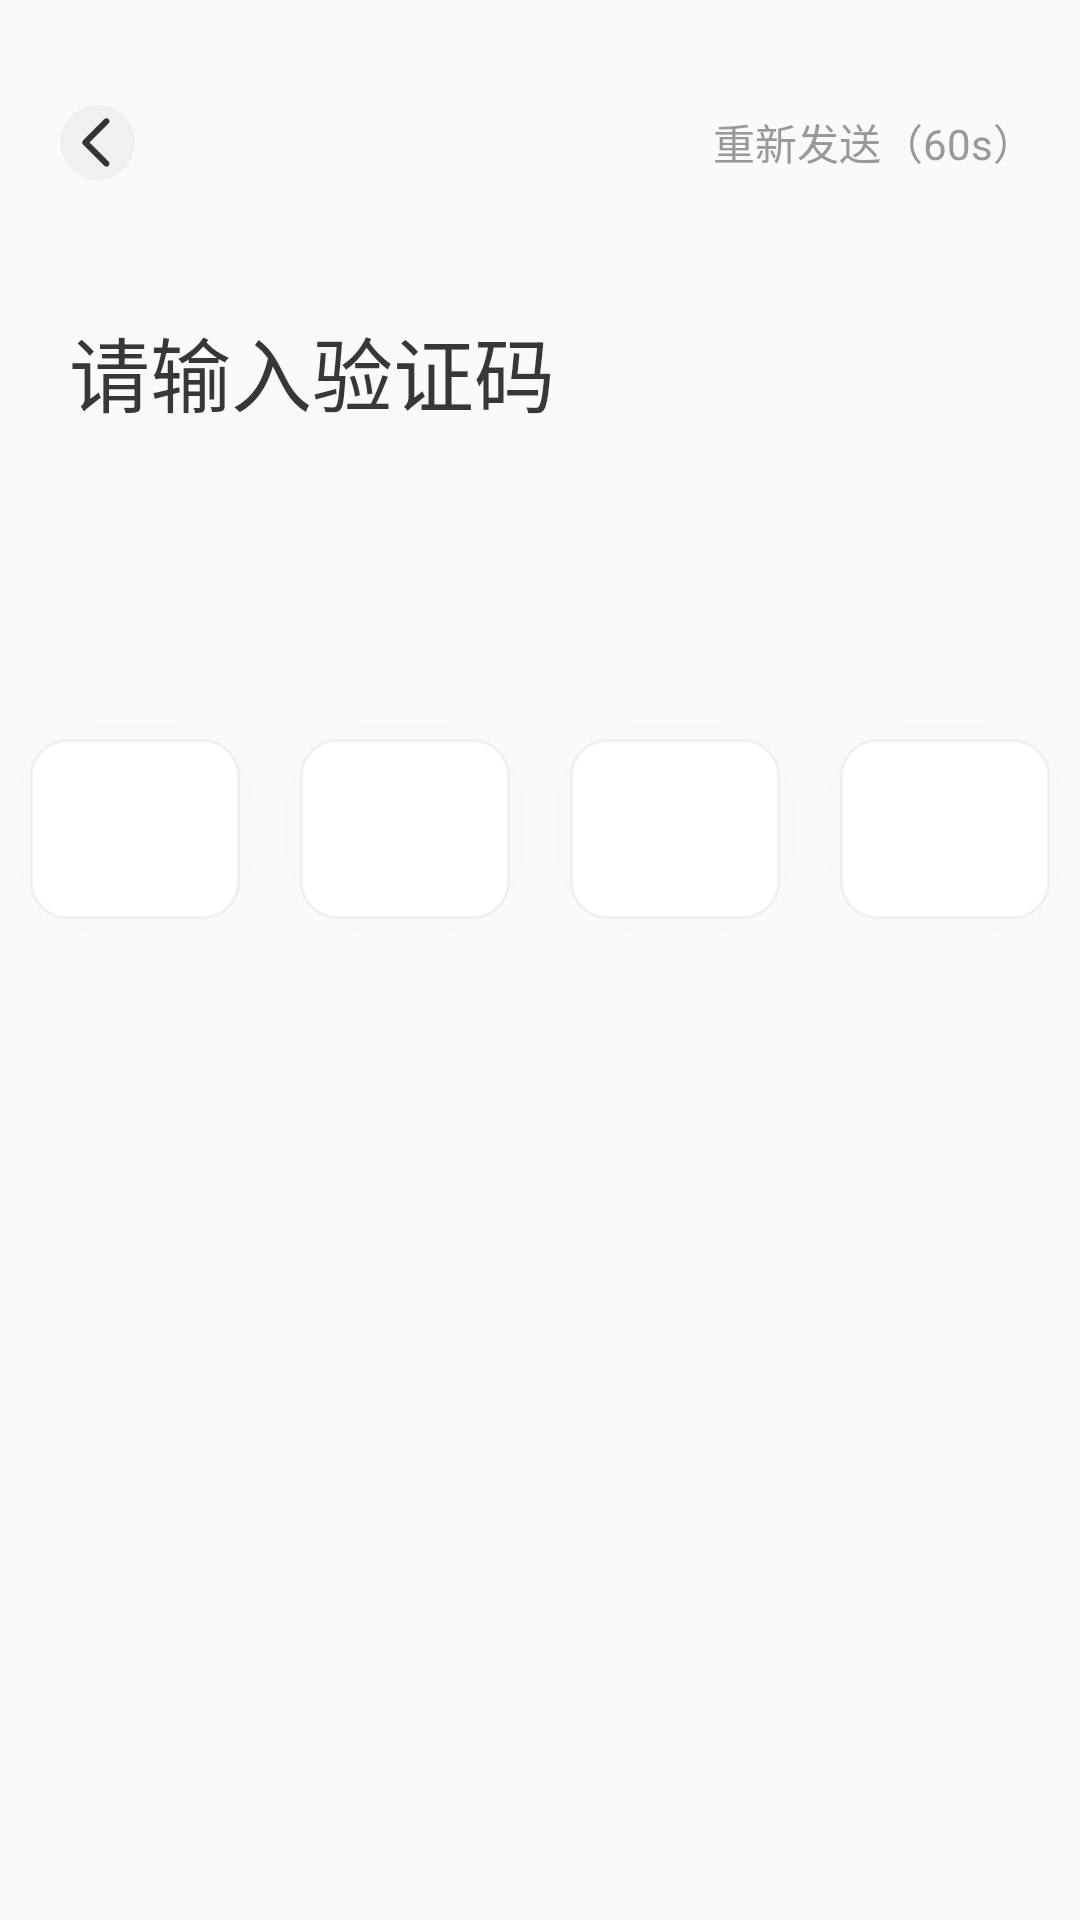

Named icons in this screenshot (1080w x 1920h) and their centers, point (x, y):
back: point (97, 142)
